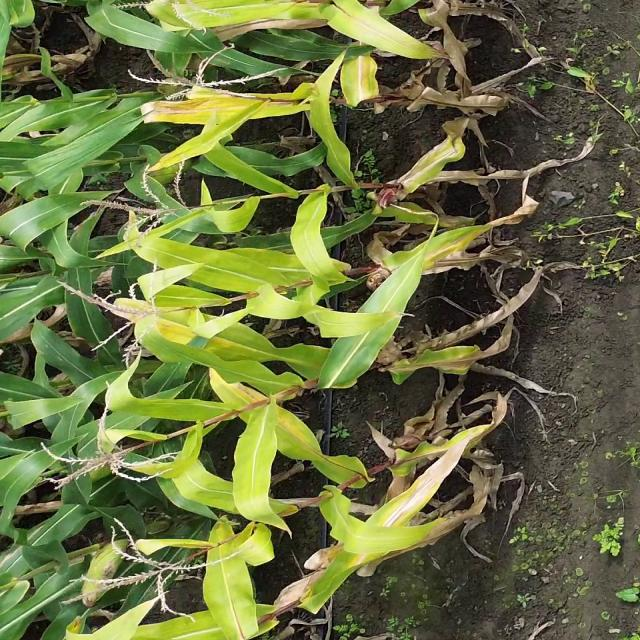northern-leaf-blight: (124, 300, 311, 384), (216, 384, 316, 464), (330, 37, 406, 130), (374, 224, 498, 281)
